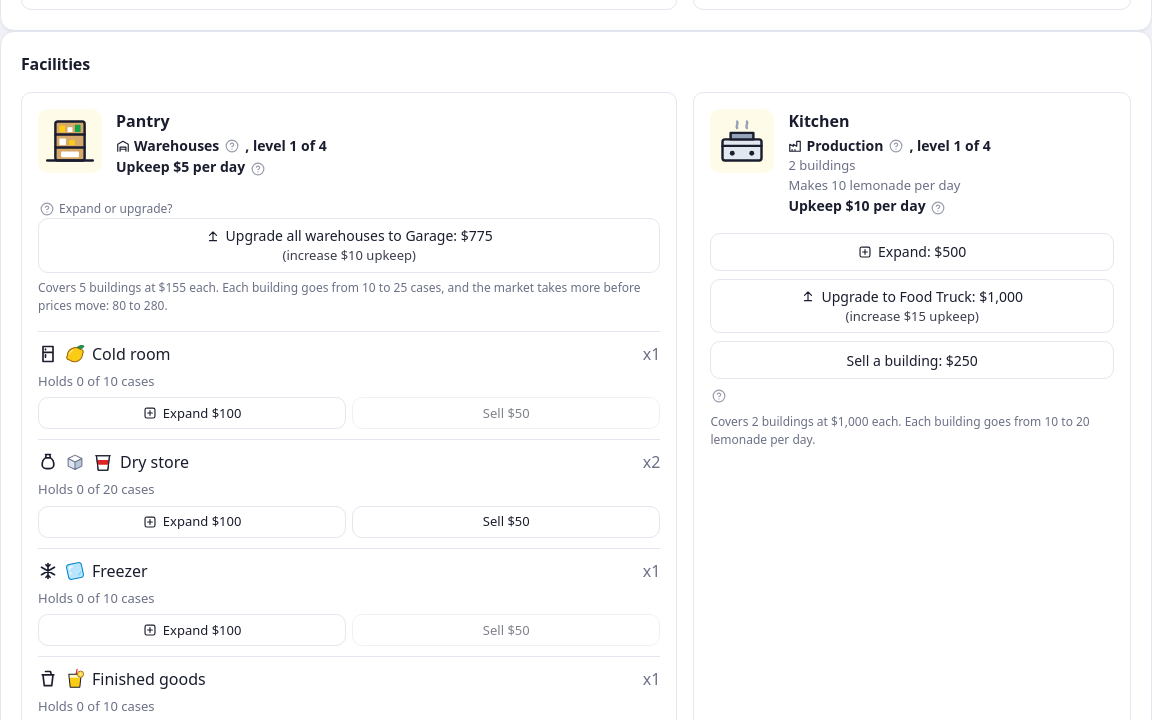
Test case: FacilitiesPanelComponent › selling buildings › cancel closes the dialog without selling
This screenshot has width=1152, height=720.
(page scrolled)
Click the button "Sell a building: $250".
click(912, 360)  # box [710,341,1114,379]
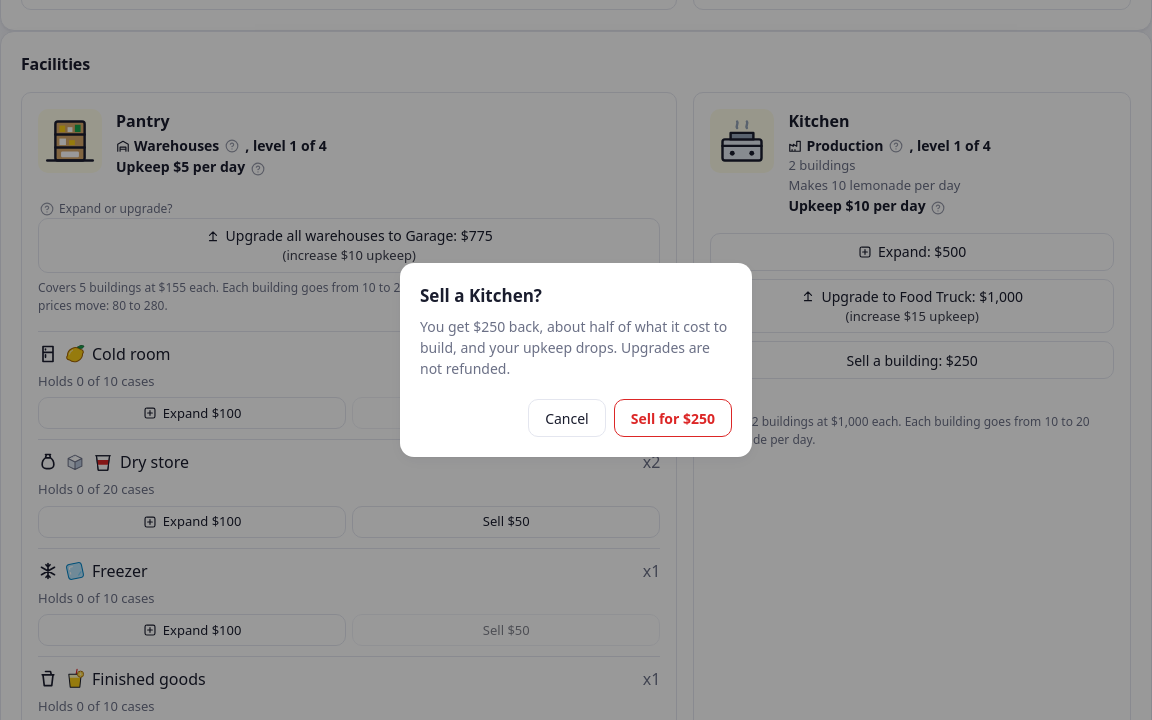
Click the button with class "cancel".
click(567, 418)  # box [528,399,606,437]
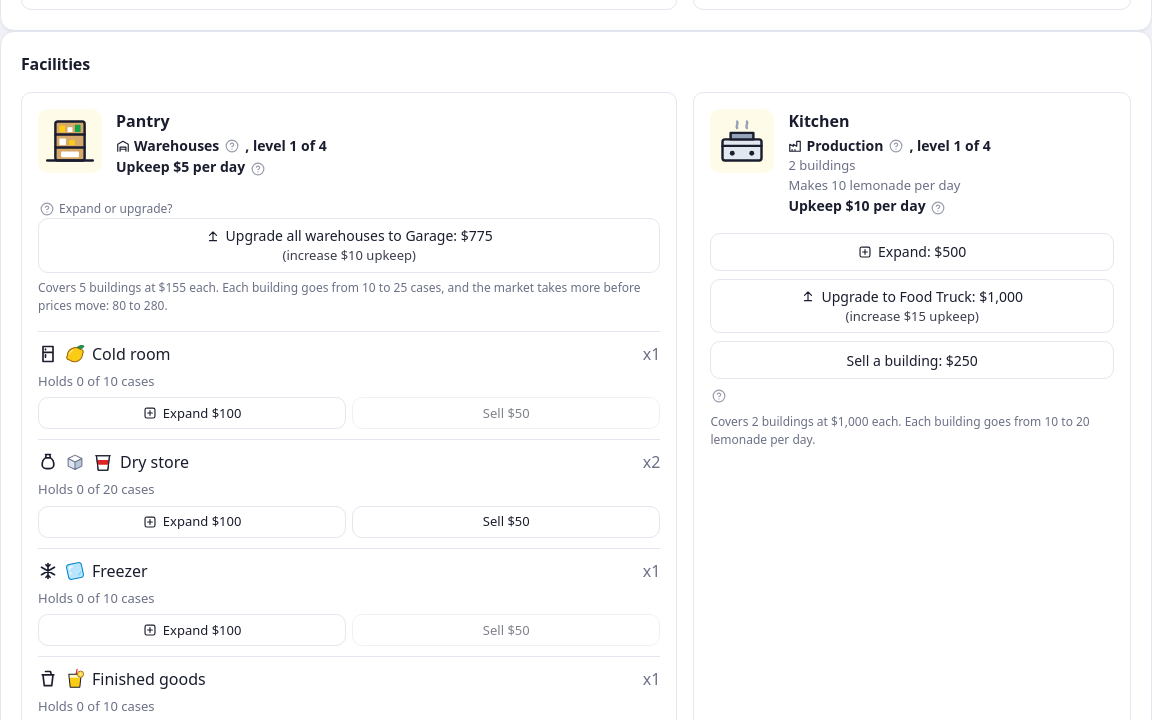
Expected: the dialog is gone
